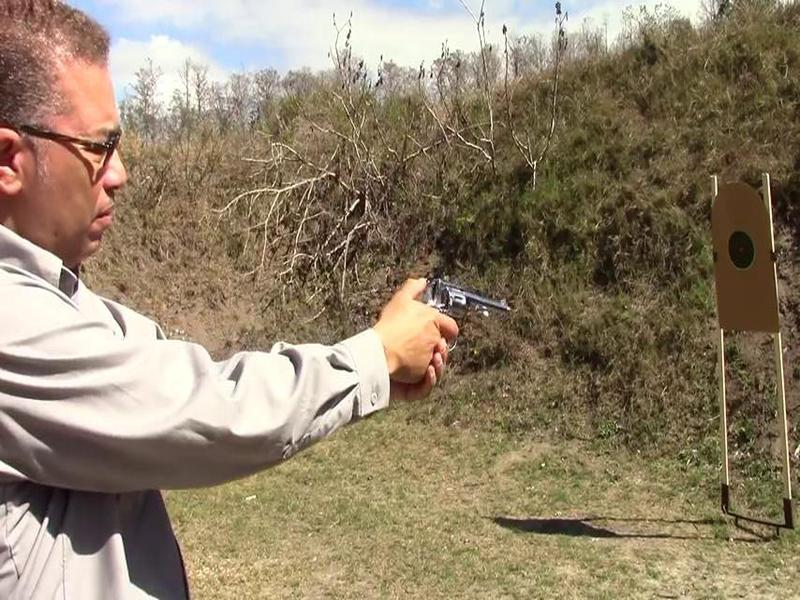Revolver: (416, 258, 518, 361)
